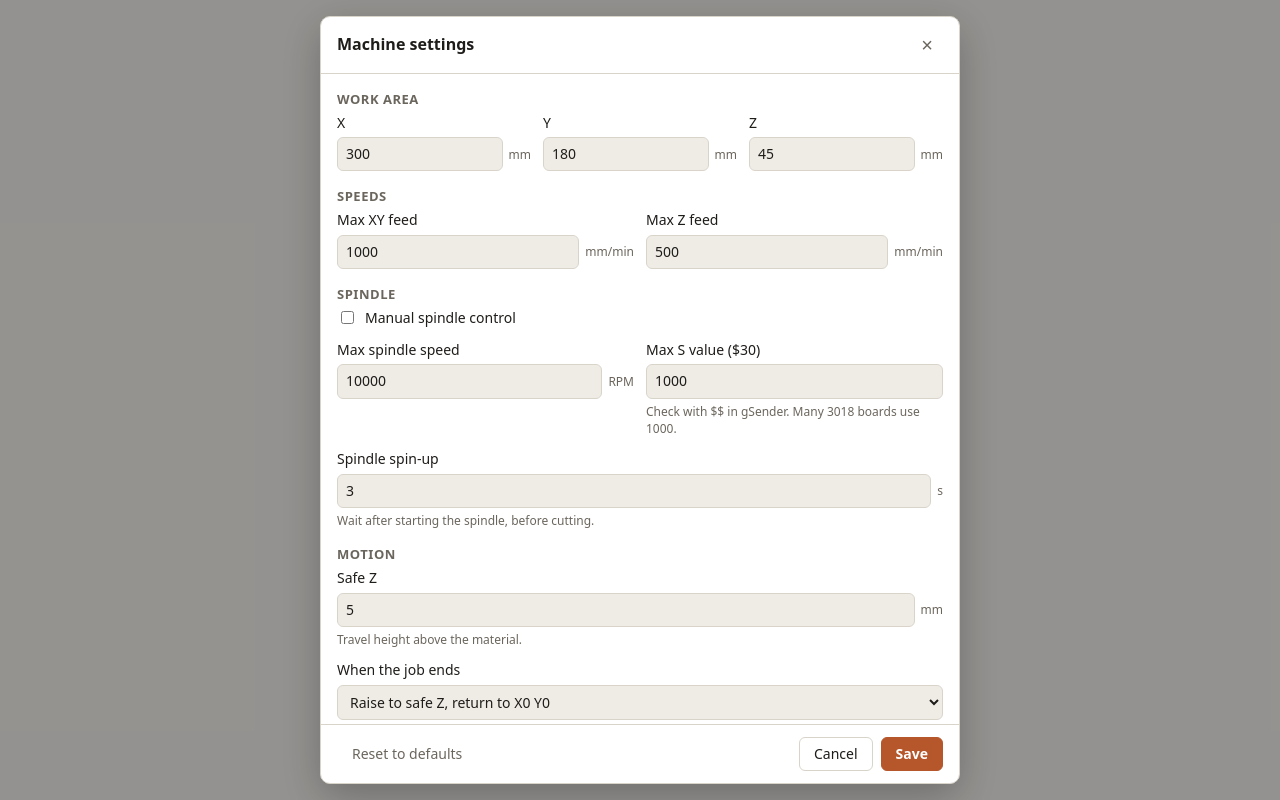
Test: MachineSettingsDialog › blocks saving invalid values and explains why
Step 1. Clear the number field labelled "Max XY feed" → (458,252), box [337,235,579,269]
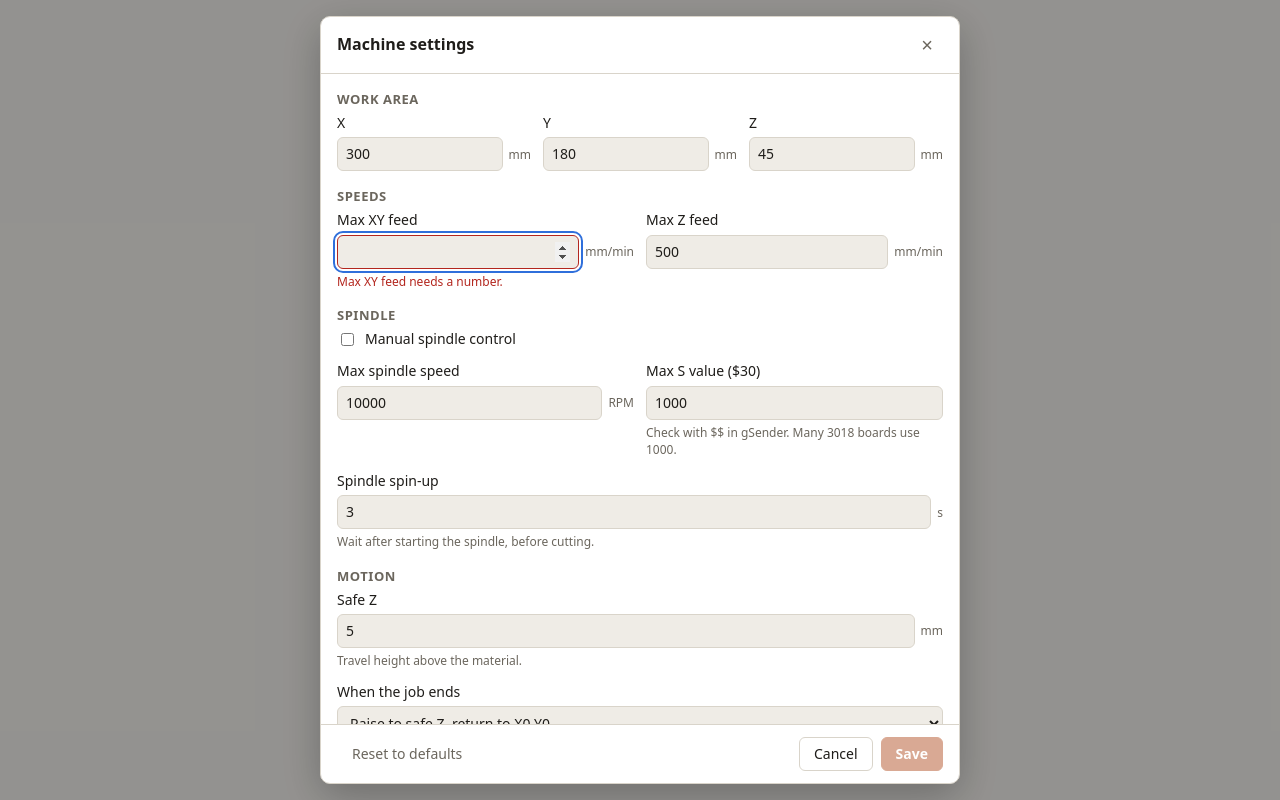
expect the message reads "Max XY feed needs a number.": met, box [337,273,503,290]
expect the button "Save" is disabled: met, box [881,737,943,771]
